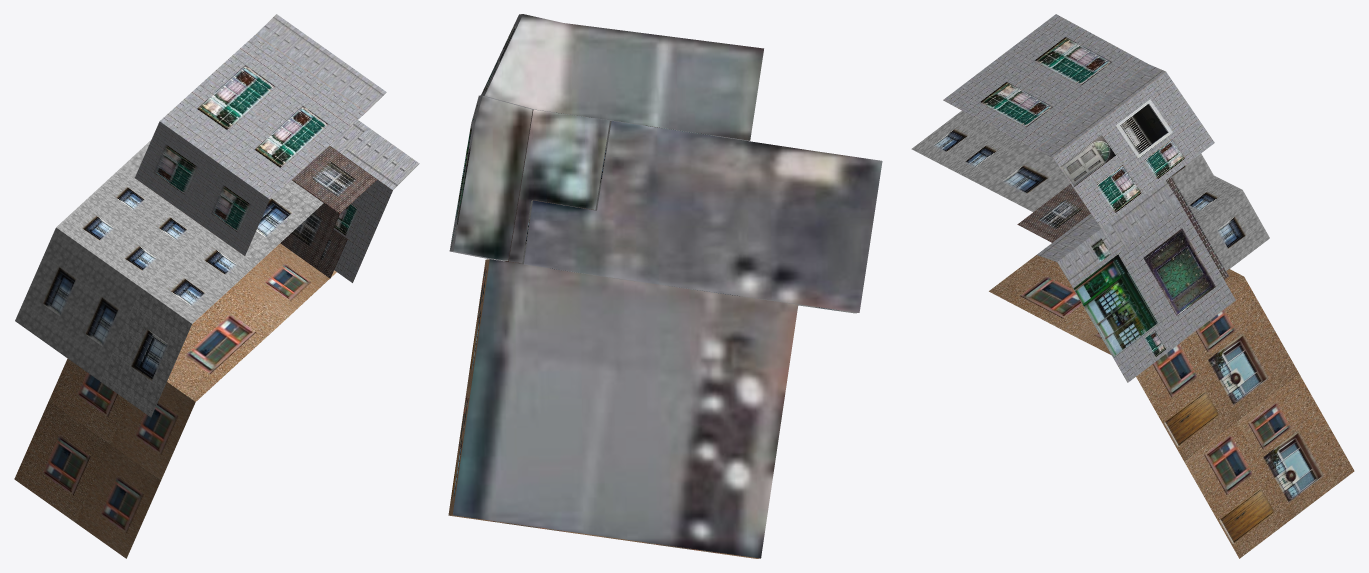
The picture shows the model from 3 angles, left to right: view 1: azimuth 30°, elevation 25°; view 2: azimuth 150°, elevation 25°; view 3: azimuth 270°, elevation 25°; orthographic projection. The views are drawn at different scales.
Bounding box in the file's own units: 22.46 × 27.18 × 21.52.
18 materials, 18 textured.
